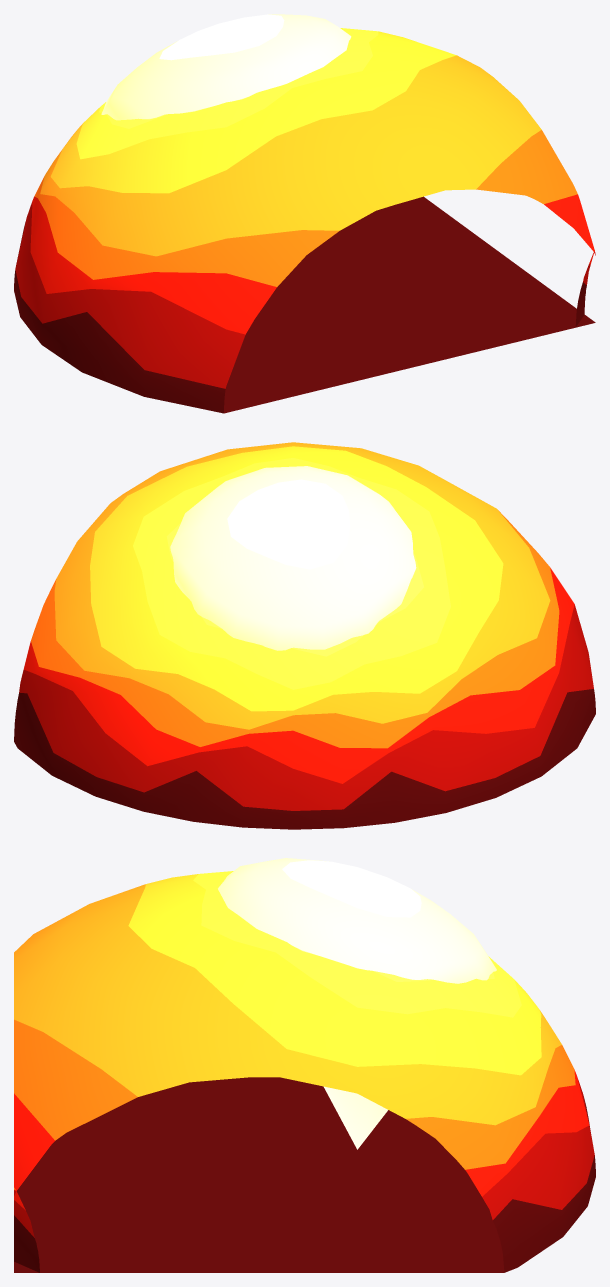
Rendered from shot_charge_b189.glb.
3 renders of one model, top to bottom at view 1: azimuth 30°, elevation 25°; view 2: azimuth 150°, elevation 25°; view 3: azimuth 270°, elevation 25°, orthographic. The views are drawn at different scales.
Parts seen in each view (by area): view 1: charge_twin6_b_fire_shot_charge_b189, charge_twin6_b_core_shot_charge_b189; view 2: charge_twin6_b_fire_shot_charge_b189, charge_twin6_b_core_shot_charge_b189; view 3: charge_twin6_b_fire_shot_charge_b189, charge_twin6_b_core_shot_charge_b189, charge_twin6_a_fire_shot_charge_b189.
Part boxes in pixels (x1,y1,x2,y2): charge_twin6_b_fire_shot_charge_b189: [14, 28, 595, 413]; charge_twin6_b_core_shot_charge_b189: [101, 14, 351, 120]; charge_twin6_b_fire_shot_charge_b189: [14, 442, 595, 829]; charge_twin6_b_core_shot_charge_b189: [170, 466, 416, 650]; charge_twin6_b_fire_shot_charge_b189: [14, 871, 595, 1272]; charge_twin6_b_core_shot_charge_b189: [218, 858, 496, 1149]; charge_twin6_a_fire_shot_charge_b189: [14, 1187, 39, 1272].
Bounding box in the file's own units: 9.97 × 5.37 × 10.
